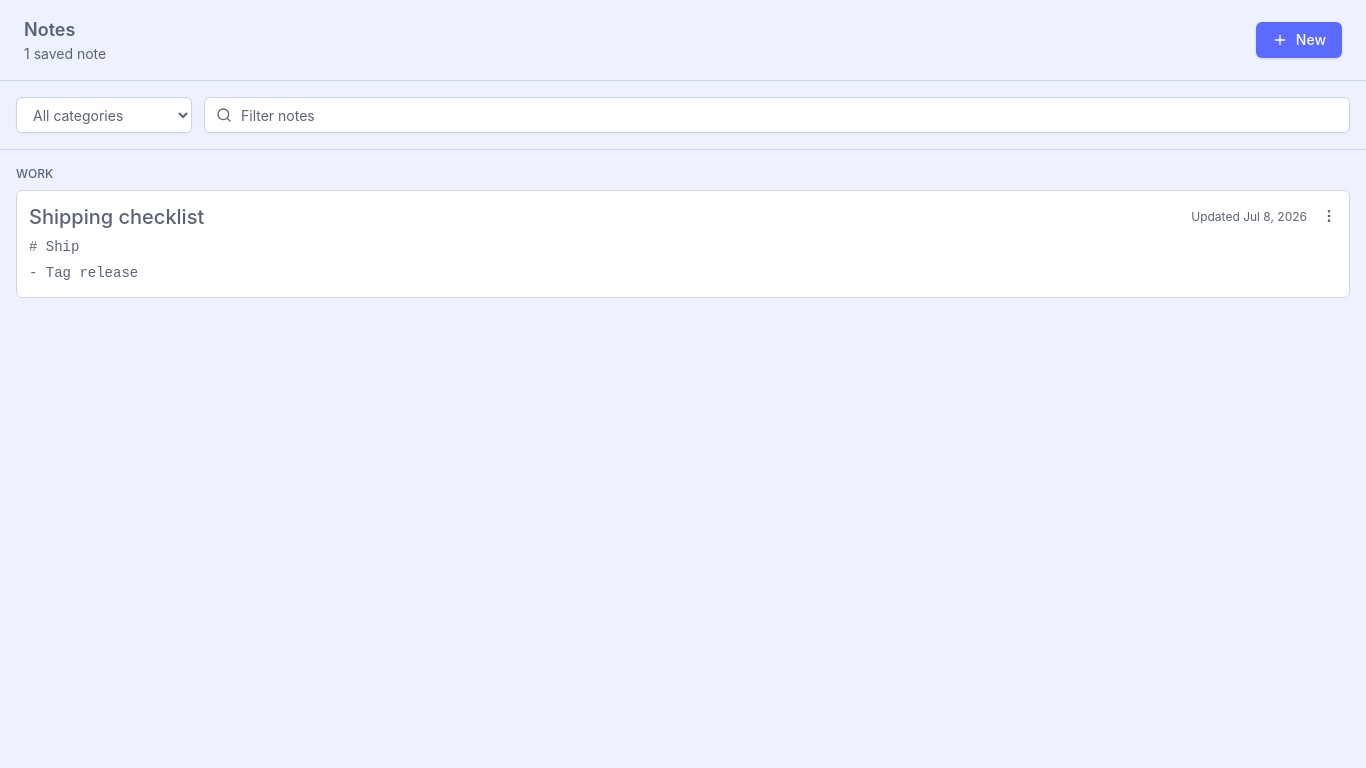
Scenario: NotesListView › shows copyable rendered markdown lines in the note detail view
This screenshot has width=1366, height=768.
Click the button named "Actions for Shipping checklist".
click(1329, 216)  # box [1315,202,1343,230]
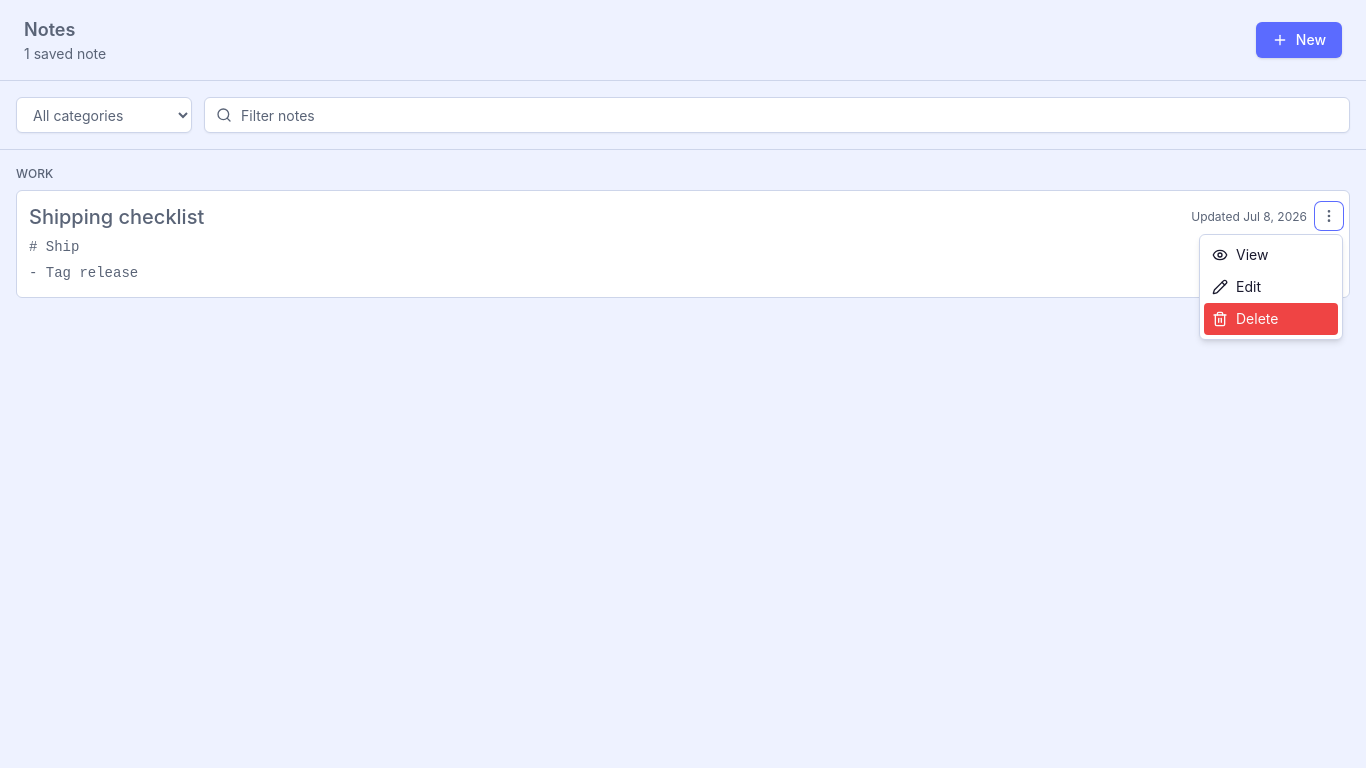
Click the menu item "View".
click(1271, 255)  # box [1204,239,1338,271]
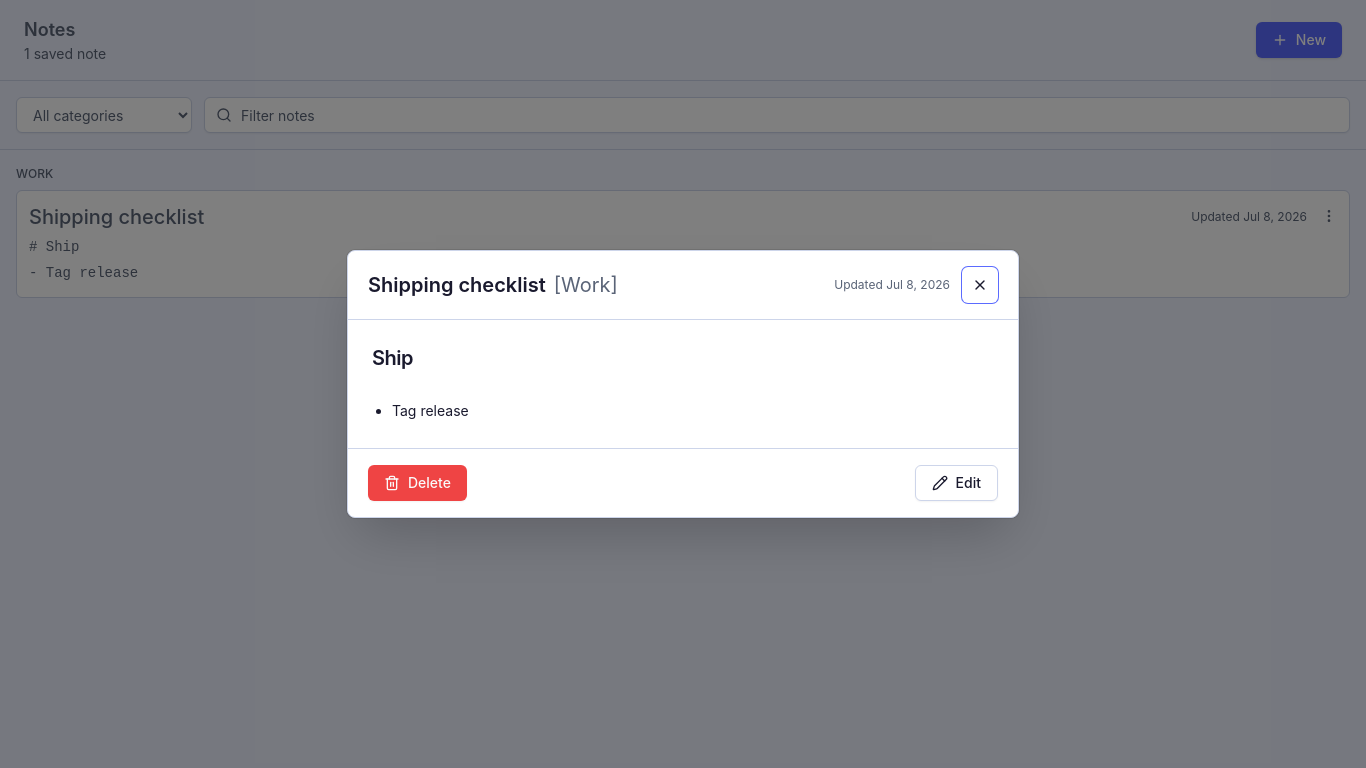
Expected: the text "[Work]" is shown, [554,271,618,299]
Expected: the text "Updated Jul 8, 2026" is shown, [834,277,950,293]
Expected: the button with aria-label "Copy line 1" is shown, [372,344,994,372]
